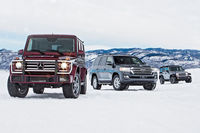car: (5, 33, 87, 99), (92, 54, 157, 91), (160, 64, 192, 84)
